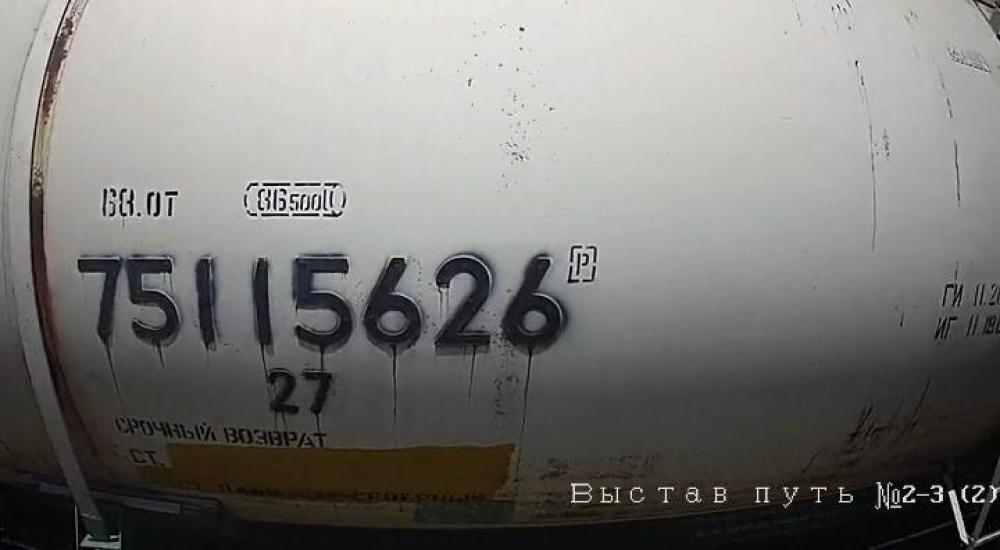Wagon-number: (72, 247, 572, 357)
